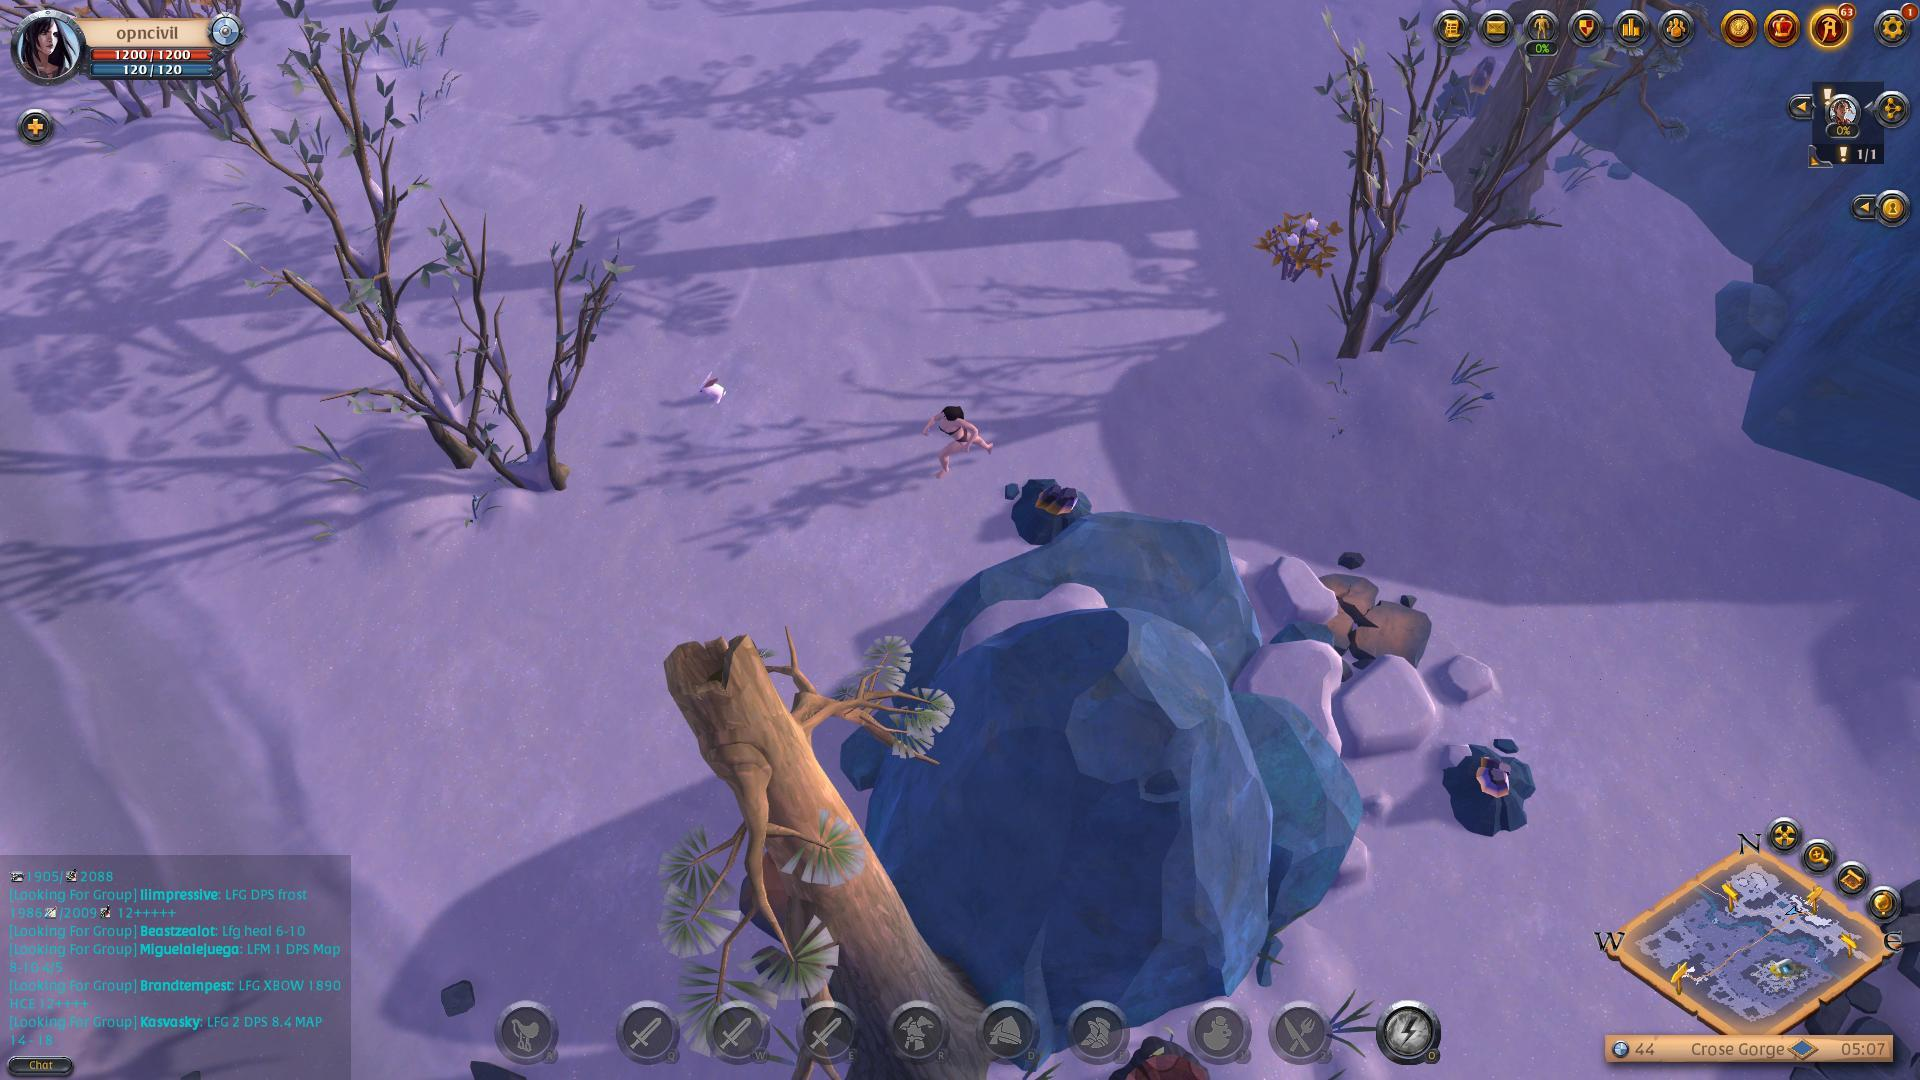copper_ore: (1425, 725, 1543, 845), (998, 443, 1100, 560), (1436, 54, 1502, 131)
cotton: (1247, 203, 1346, 290)
